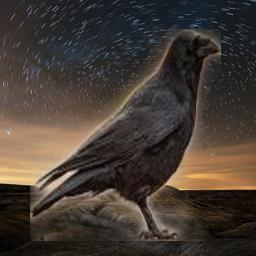Crow: (30, 29, 221, 241)
